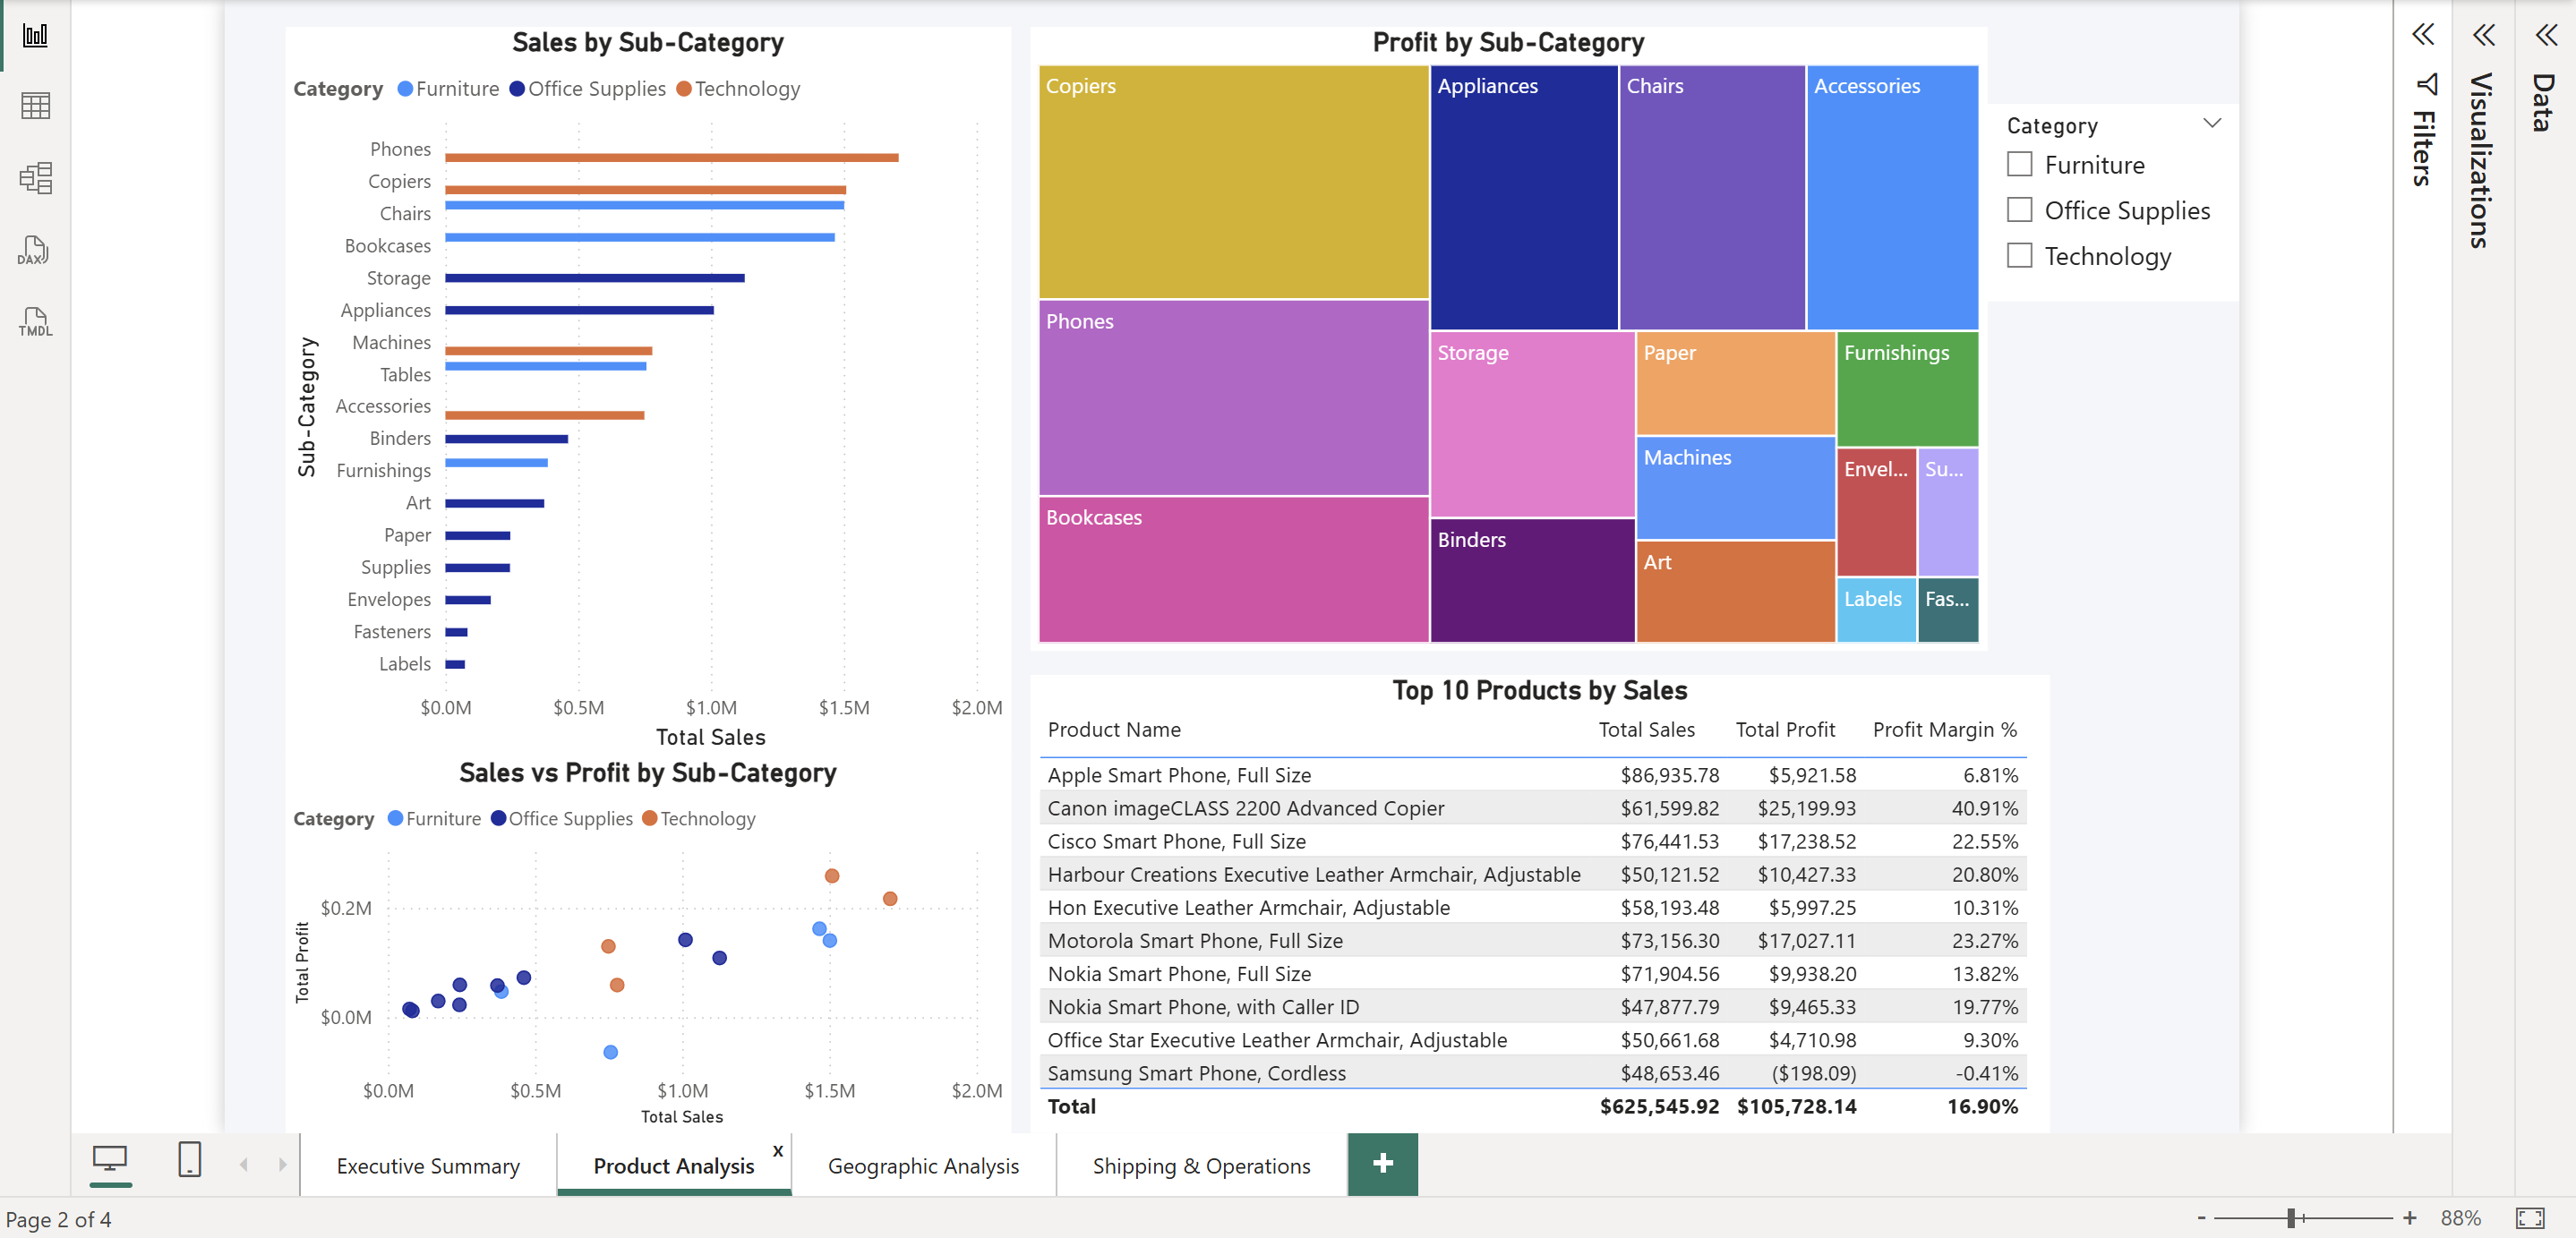

What the dashboard file says about the page in this screenshot:
{"tool":"powerbi","page":{"name":"Product Analysis","canvas":[1280,720],"ordinal":1},"visuals":[{"type":"clusteredBarChart","title":"Sales by Sub-Category ","fields":{"Category":["Orders.Sub-Category"],"Y":["_Measures.Total Sales"],"Series":["Orders.Category"]},"box":[38.3,16.8,460.9,463.9],"z":0},{"type":"treemap","title":"Profit by Sub-Category","fields":{"Group":["Orders.Sub-Category"],"Values":["_Measures.Total Profit"]},"box":[511.4,16.8,607.8,396.6],"z":1},{"type":"scatterChart","title":"Sales vs Profit by Sub-Category","fields":{"X":["_Measures.Total Sales"],"Y":["_Measures.Total Profit"],"Category":["Orders.Sub-Category"],"Series":["Orders.Category"]},"box":[38.3,480.8,460.9,238.9],"z":2},{"type":"tableEx","title":"Top 10 Products by Sales","fields":{"Values":["Orders.Product Name","_Measures.Total Sales","_Measures.Total Profit","_Measures.Profit Margin %"]},"box":[511.4,428.7,647.7,290.9],"z":3},{"type":"slicer","fields":{"Values":["Orders.Category"]},"box":[1119.2,65.8,162.3,125.6],"z":4}]}

Visuals, with their boxes on the page's 1280x720 design canvas (x1, y1, x2, y2). These are canvas units, not pixel positions in the 2576x1238 screenshot, which may show the page scaled, cropped or inside an application window:
"Sales by Sub-Category " clusteredBarChart: {"x1": 38, "y1": 17, "x2": 499, "y2": 481}
"Profit by Sub-Category" treemap: {"x1": 511, "y1": 17, "x2": 1119, "y2": 413}
"Sales vs Profit by Sub-Category" scatterChart: {"x1": 38, "y1": 481, "x2": 499, "y2": 720}
"Top 10 Products by Sales" tableEx: {"x1": 511, "y1": 429, "x2": 1159, "y2": 720}
slicer - Orders.Category: {"x1": 1119, "y1": 66, "x2": 1282, "y2": 191}
